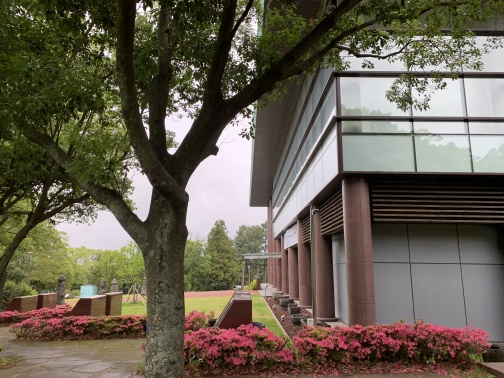Museum: (242, 7, 504, 363)
